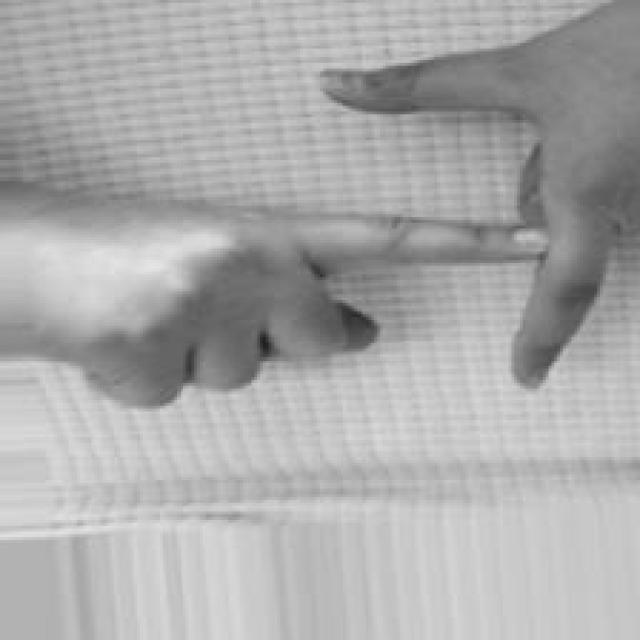F: (80, 0, 640, 406)
